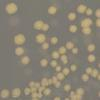yellow: (4, 2, 19, 15), (14, 32, 25, 46), (19, 54, 32, 65), (75, 2, 86, 14), (32, 19, 44, 30), (38, 56, 48, 69), (11, 86, 21, 99), (73, 86, 86, 96), (63, 82, 73, 94), (50, 49, 59, 62), (68, 92, 82, 100), (67, 12, 78, 22), (68, 24, 78, 35), (35, 33, 46, 43), (14, 46, 24, 57), (85, 54, 96, 64), (47, 4, 56, 16), (48, 57, 57, 69), (41, 23, 52, 32), (60, 55, 69, 66), (90, 68, 99, 79), (83, 6, 92, 16), (70, 46, 79, 56), (58, 44, 66, 55), (87, 43, 95, 54), (1, 89, 9, 100), (53, 81, 62, 90), (64, 41, 74, 49), (93, 7, 100, 18), (50, 36, 58, 45), (69, 63, 77, 72), (57, 72, 65, 81), (43, 88, 52, 96), (41, 42, 49, 50), (82, 73, 89, 82), (85, 66, 92, 75), (94, 17, 100, 27), (24, 86, 30, 96), (54, 64, 61, 72), (28, 80, 35, 88), (41, 77, 49, 84), (51, 76, 59, 83), (32, 94, 41, 100), (38, 87, 45, 94), (63, 68, 69, 76), (32, 82, 40, 88), (32, 88, 39, 94), (54, 96, 62, 100), (96, 73, 100, 79), (96, 89, 100, 95), (64, 96, 69, 100)
